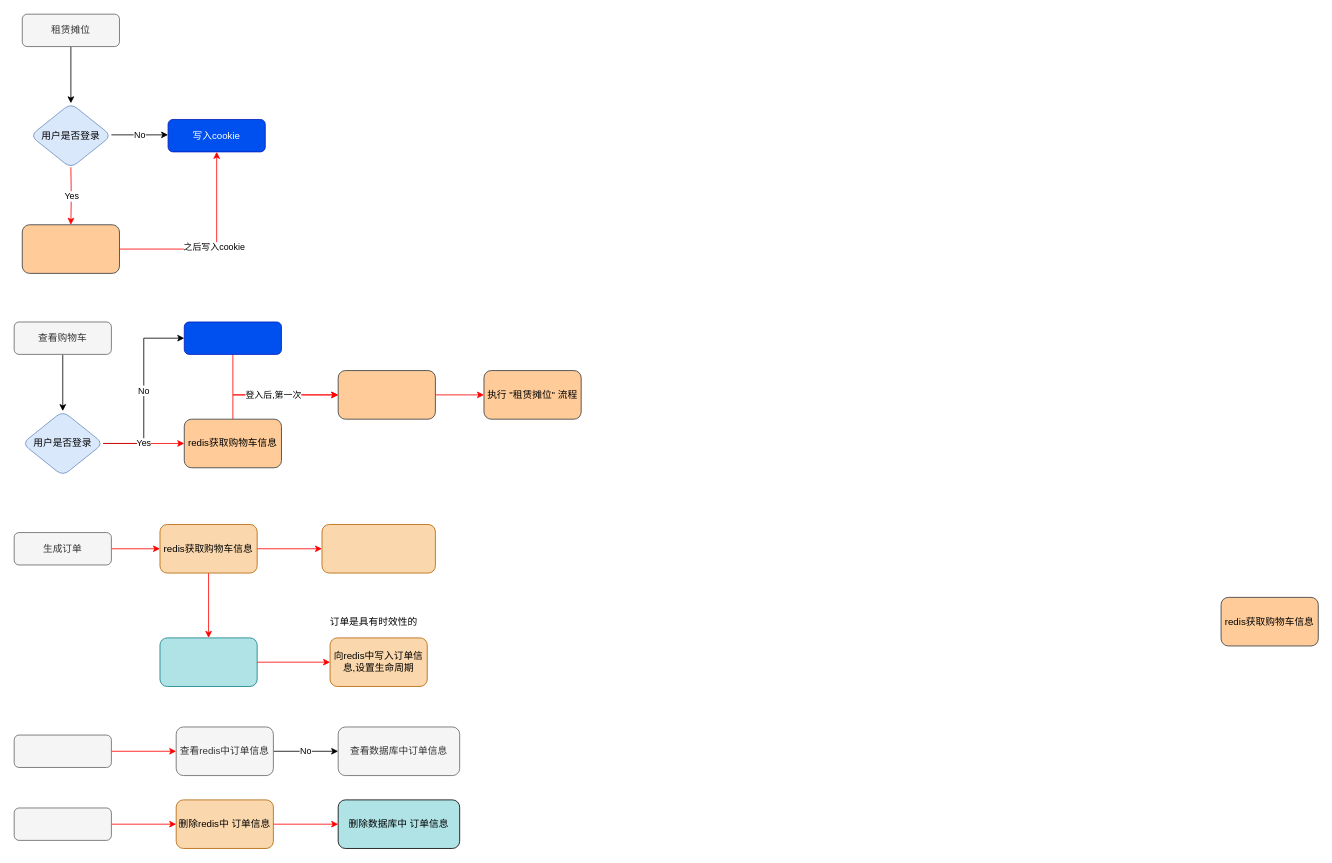
Some shapes in this 1332 by 863 pixel diagram are drawn without their labels. The shapes that lost their labels are listed below. From the top down, each one's centre as x and y in pixels, then its label:
At (x=70, y=248): "购物车信息写入 redis".
At (x=232, y=337): "cookie获取数据".
At (x=386, y=394): "数据合并".
At (x=378, y=548): "redis删除该购物车信息".
At (x=208, y=661): "作为订单信息,写入数据库".
At (x=62, y=750): "查看订单".
At (x=62, y=823): "删除订单".
